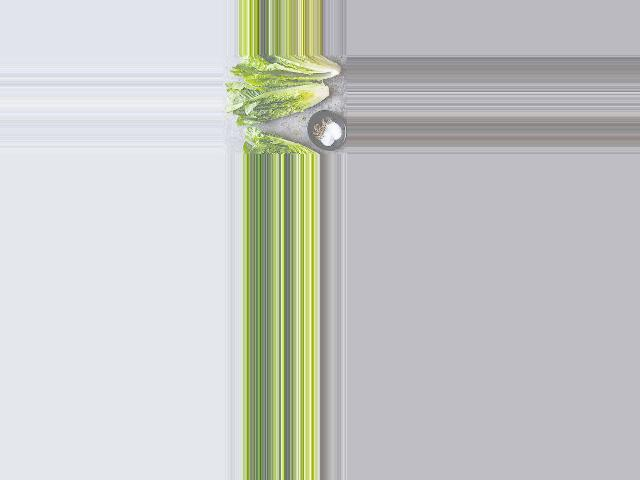lettuce: (238, 55, 347, 84)
